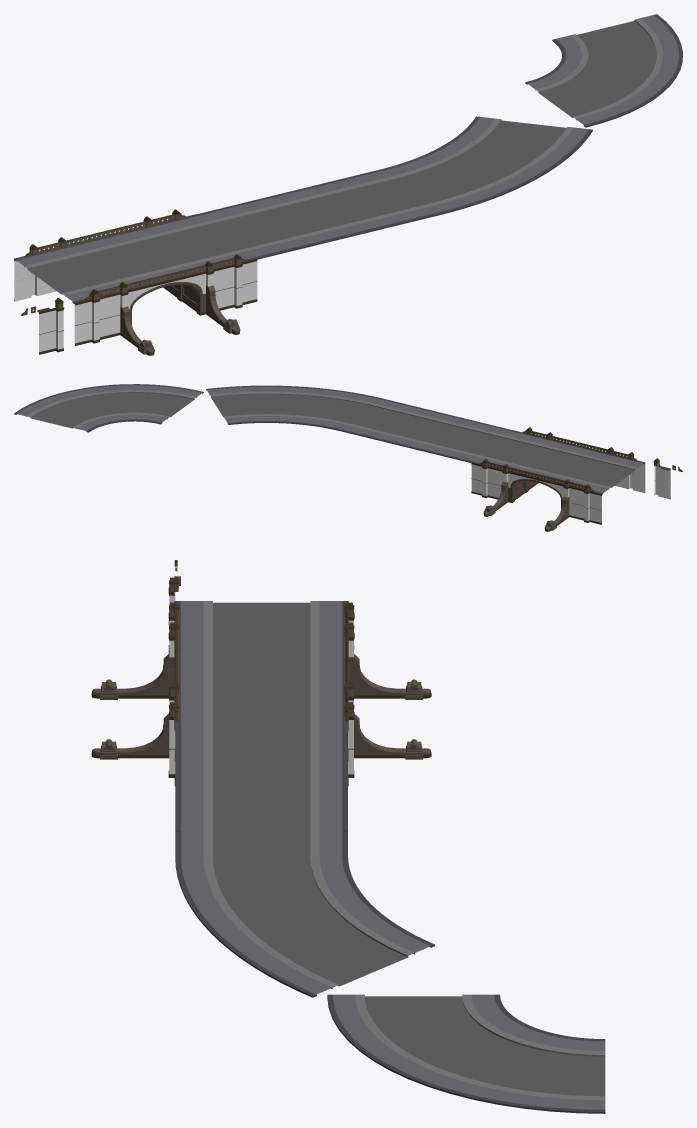
File: Bridge.002.fbx
3 renders of one model, top to bottom at view 1: azimuth 30°, elevation 25°; view 2: azimuth 150°, elevation 25°; view 3: azimuth 270°, elevation 25°, orthographic. The views are drawn at different scales.
Parts seen in each view (by area): view 1: Bridge.002, Bridge.2.Road.A, Bridge.2.Road.B, Bridge.2.Road.C, Bridge.002.Wall; view 2: Bridge.002, Bridge.2.Road.B, Bridge.2.Road.C, Bridge.2.Road.A, Bridge.002.Wall; view 3: Bridge.002, Bridge.2.Road.C, Bridge.2.Road.B, Bridge.2.Road.A.
Boxes of the visible parts, x1=… form: Bridge.002: x1=14, y1=209, x2=257, y2=355; Bridge.2.Road.A: x1=197, y1=170, x2=439, y2=259; Bridge.2.Road.B: x1=379, y1=116, x2=592, y2=214; Bridge.2.Road.C: x1=525, y1=14, x2=682, y2=127; Bridge.002.Wall: x1=39, y1=307, x2=55, y2=354; Bridge.002: x1=471, y1=427, x2=645, y2=531; Bridge.2.Road.B: x1=206, y1=385, x2=383, y2=431; Bridge.2.Road.C: x1=14, y1=384, x2=203, y2=432; Bridge.2.Road.A: x1=341, y1=399, x2=514, y2=462; Bridge.002.Wall: x1=658, y1=466, x2=670, y2=499; Bridge.002: x1=91, y1=601, x2=431, y2=786; Bridge.2.Road.C: x1=327, y1=994, x2=605, y2=1113; Bridge.2.Road.B: x1=175, y1=855, x2=434, y2=997; Bridge.2.Road.A: x1=175, y1=728, x2=347, y2=857.
Size of the model in its own units: 6888 by 431 by 2729.
